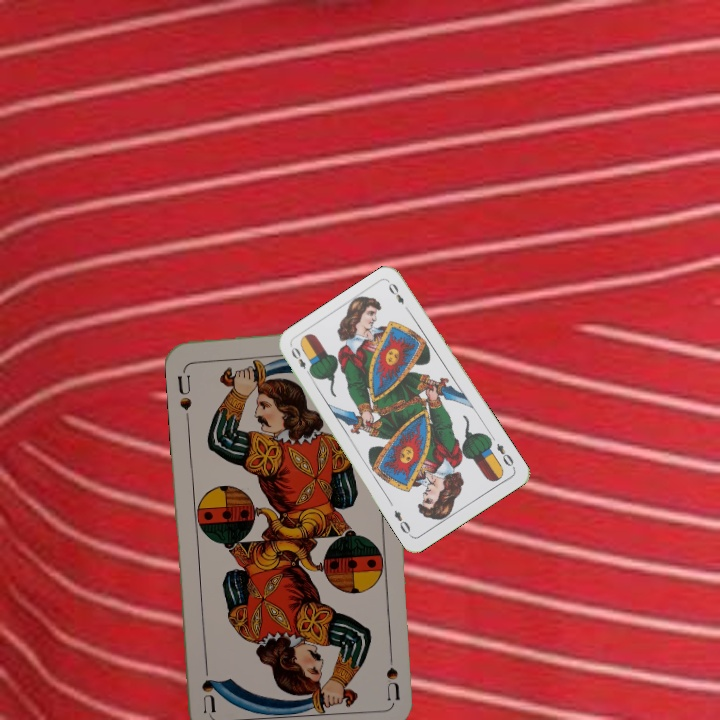EO: (287, 343, 315, 379), (492, 439, 518, 471)
SU: (382, 641, 402, 701), (173, 364, 194, 413)
